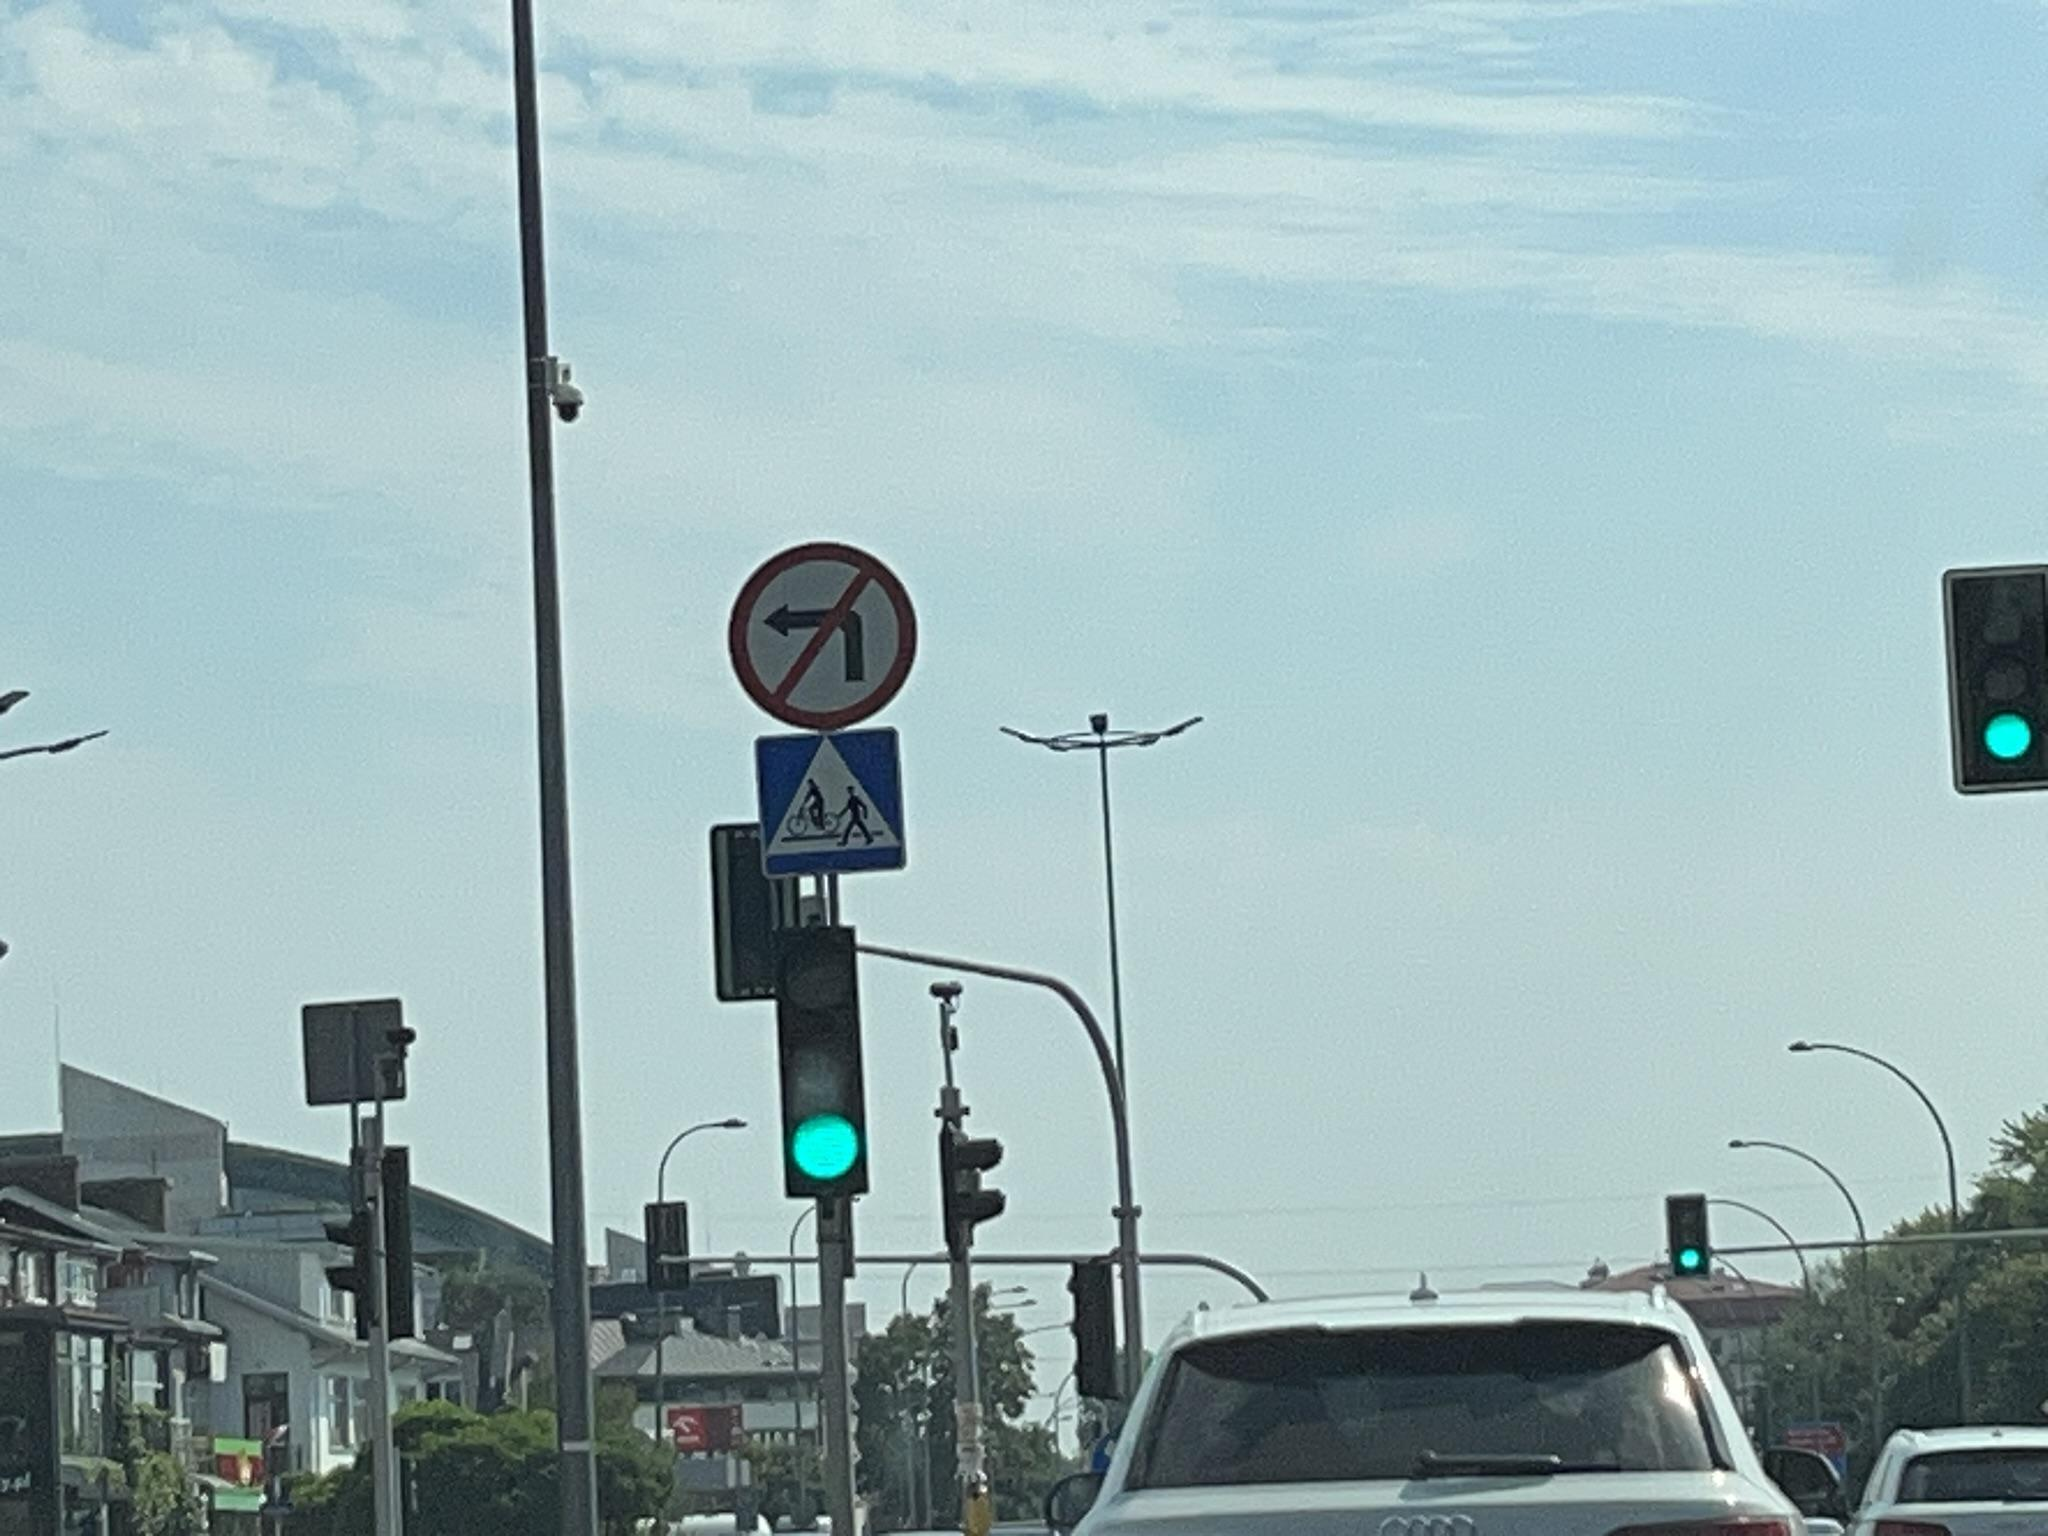information: (756, 733, 910, 873)
prohibitory: (727, 536, 921, 733)
